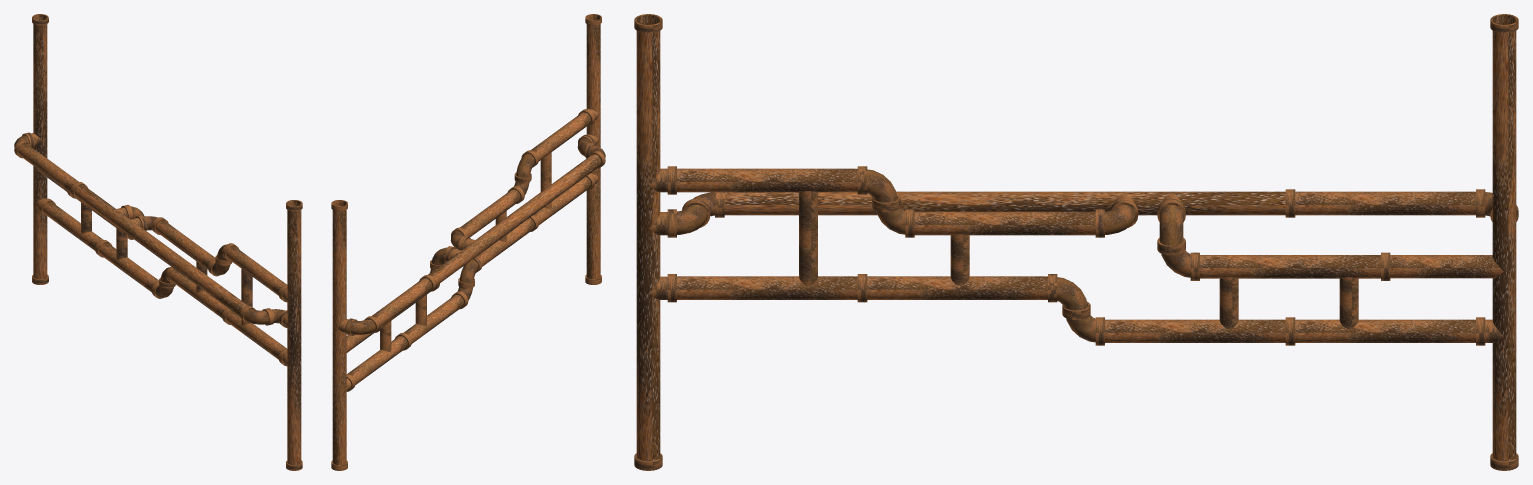
Rendered from newpipes.fbx.
3 renders of one model, left to right at view 1: azimuth 30°, elevation 25°; view 2: azimuth 150°, elevation 25°; view 3: azimuth 270°, elevation 25°, orthographic. The views are drawn at different scales.
Parts seen in each view (by area): view 1: polySurface21, polySurface29, polySurface6, pCylinder69, pCylinder71, pCylinder58, pCylinder70, polySurface14, polySurface3, polySurface40, pCylinder73, polySurface11; view 2: polySurface29, polySurface21, polySurface6, pCylinder69, pCylinder71, pCylinder70, pCylinder58, polySurface3, polySurface14, polySurface40, pCylinder73, polySurface27 (+1 smaller); view 3: polySurface6, polySurface29, polySurface21, pCylinder69, pCylinder73, pCylinder71, pCylinder58, pCylinder70, polySurface3, polySurface14, polySurface40, polySurface32 (+1 smaller).
Part boxes in pixels (box(x1,y1,x2,y2)): polySurface21: box(287, 202, 301, 465); polySurface29: box(33, 16, 47, 279); polySurface6: box(74, 185, 247, 316); pCylinder69: box(135, 215, 231, 276); pCylinder71: box(95, 238, 173, 298); pCylinder58: box(222, 292, 287, 366); pCylinder70: box(159, 267, 227, 317); polySurface14: box(226, 246, 286, 295); polySurface3: box(18, 144, 78, 192); polySurface40: box(43, 202, 103, 250); pCylinder73: box(67, 190, 133, 240); polySurface11: box(244, 309, 268, 324); polySurface29: box(332, 202, 346, 465); polySurface21: box(586, 16, 600, 279); polySurface6: box(428, 154, 601, 285); pCylinder69: box(450, 173, 531, 250); pCylinder71: box(395, 278, 474, 350); pCylinder70: box(458, 218, 534, 288); pCylinder58: box(529, 174, 595, 231); polySurface3: box(371, 278, 432, 326); polySurface14: box(531, 112, 591, 161); polySurface40: box(347, 336, 407, 384); pCylinder73: box(375, 263, 439, 332); polySurface27: box(516, 153, 534, 177); polySurface6: box(724, 191, 1285, 215); polySurface29: box(1492, 18, 1516, 461); polySurface21: box(636, 18, 660, 461); pCylinder69: box(872, 194, 1138, 264); pCylinder73: box(1157, 238, 1390, 295); pCylinder71: box(1062, 292, 1295, 345); pCylinder58: box(667, 228, 867, 302); pCylinder70: box(867, 260, 1090, 319); polySurface3: box(1295, 191, 1475, 215); polySurface14: box(677, 168, 857, 192); polySurface40: box(1295, 319, 1475, 342); polySurface32: box(1390, 255, 1505, 278).
Size of the model in its own units: 1.6 by 10.32 by 18.6.
1 material, 1 textured.
